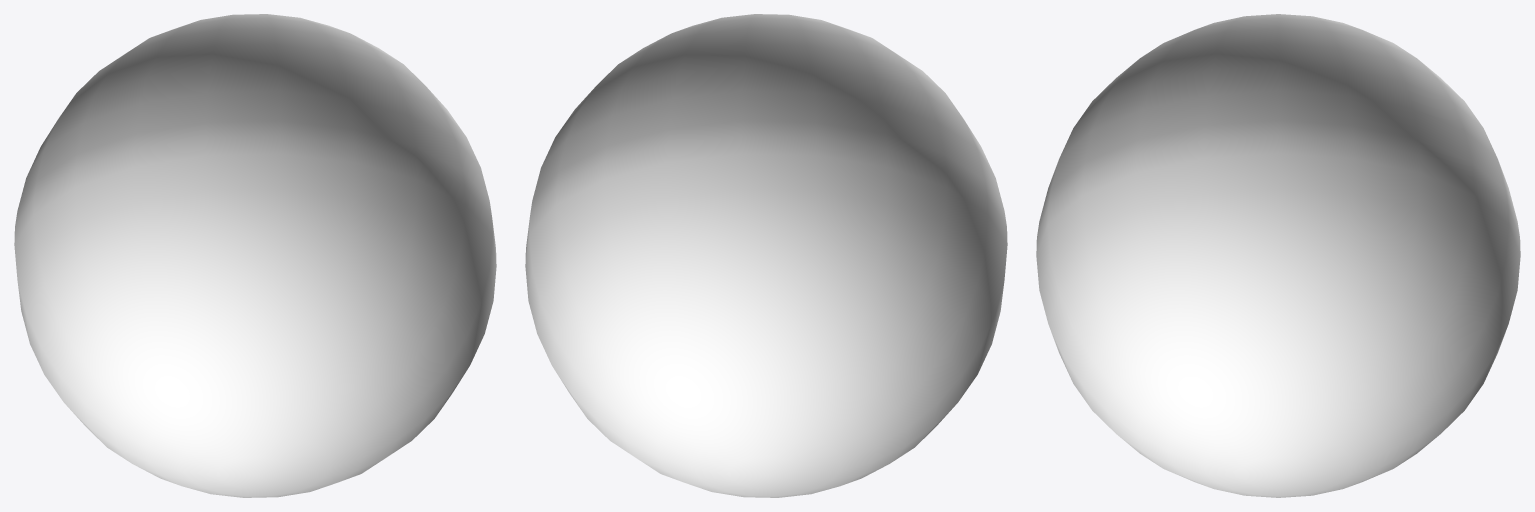
Rendered from park_vr.glb.
3 views of the same model, side by side, from view 1: azimuth 30°, elevation 25°; view 2: azimuth 150°, elevation 25°; view 3: azimuth 270°, elevation 25° (orthographic).
Parts seen in each view (by area): view 1: SkyDaytime__ParkVR_m; view 2: SkyDaytime__ParkVR_m; view 3: SkyDaytime__ParkVR_m.
Boxes of the visible parts, x1,y1,x2,y2 form: SkyDaytime__ParkVR_m: (14, 14, 496, 497); SkyDaytime__ParkVR_m: (525, 14, 1007, 497); SkyDaytime__ParkVR_m: (1036, 14, 1520, 497).
Bounding box in the file's own units: 4000 × 4000 × 4000.
1 material, 1 textured.
